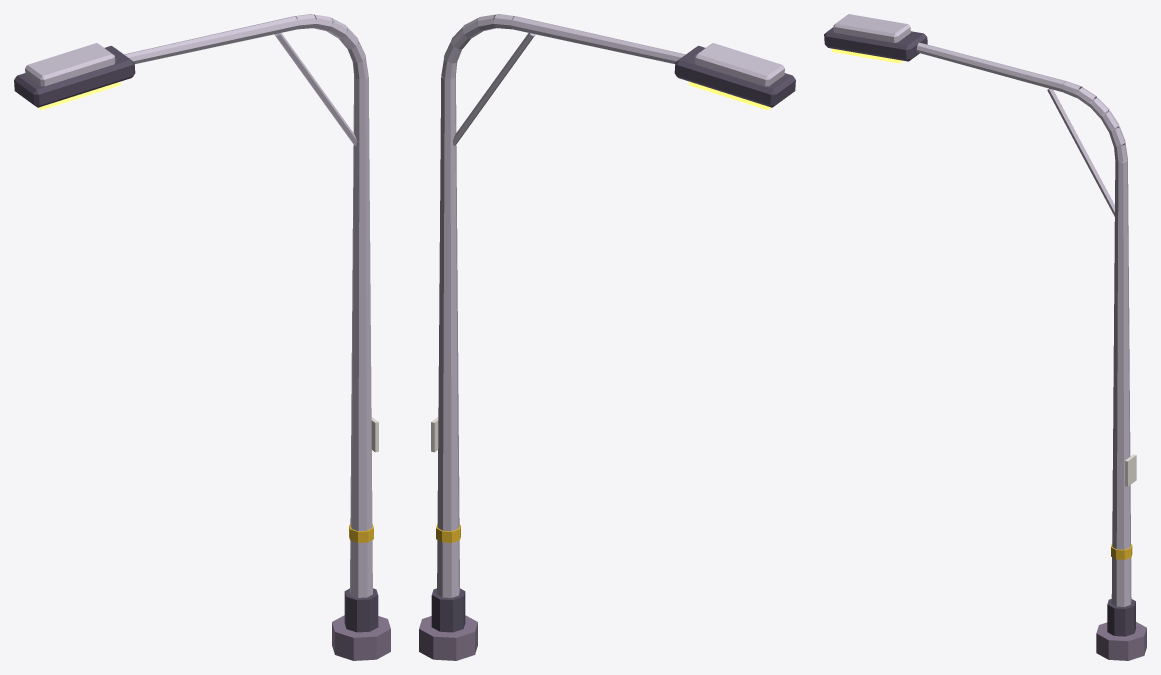
The model's file is lamp.glb.
3 renders of one model, left to right at view 1: azimuth 30°, elevation 25°; view 2: azimuth 150°, elevation 25°; view 3: azimuth 330°, elevation 25°, orthographic. The views are drawn at different scales.
Parts seen in each view (by area): view 1: lamp; view 2: lamp; view 3: lamp.
Boxes of the visible parts, x1,y1,x2,y2 form: lamp: [14, 14, 390, 660]; lamp: [419, 14, 795, 660]; lamp: [824, 14, 1146, 660].
Bounding box in the file's own units: 4.13 × 7.18 × 0.6.
